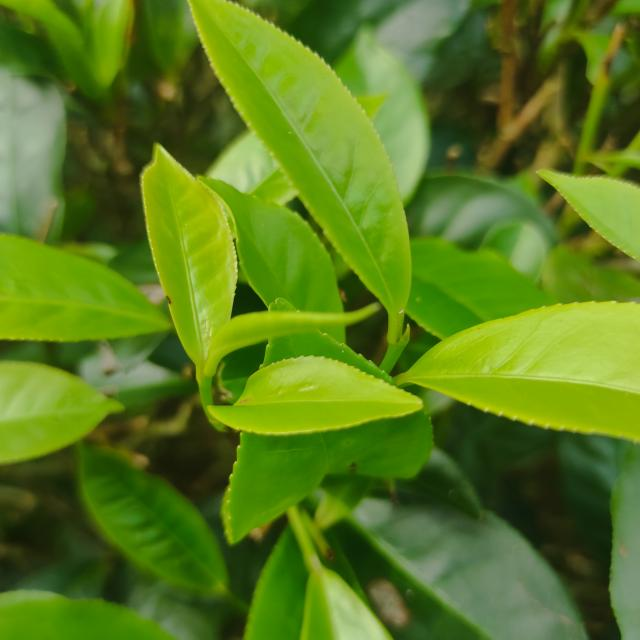unopened_leaf: (194, 292, 389, 378)
